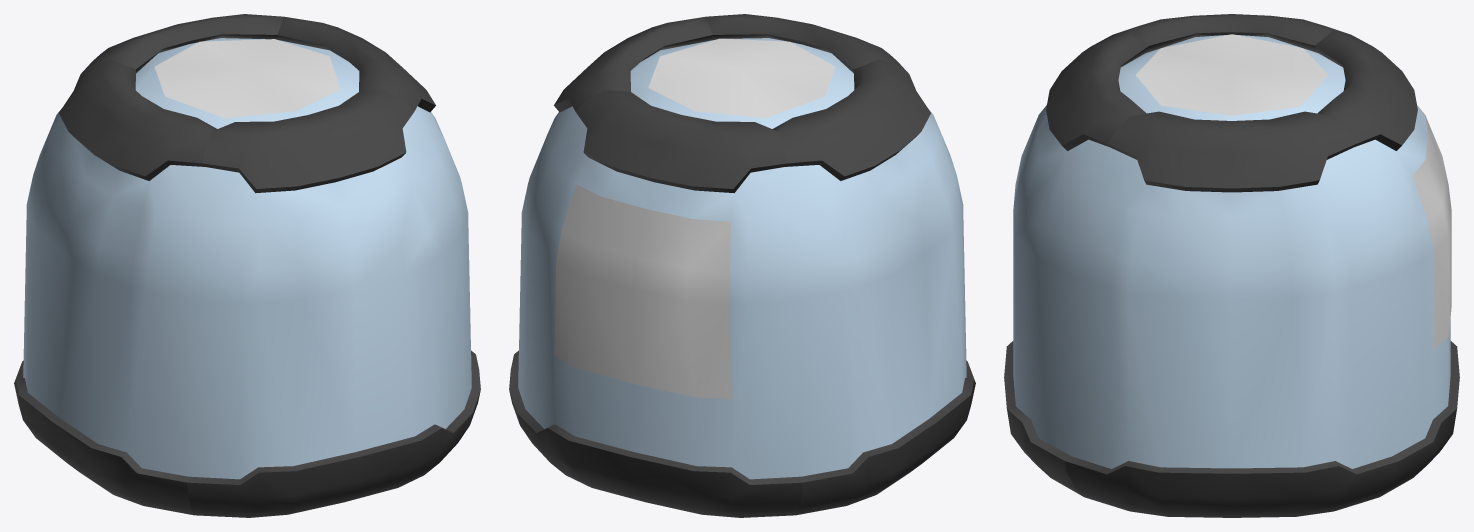
The model's file is obj_characterobject_totebotblue.fbx.
3 renders of one model, left to right at view 1: azimuth 30°, elevation 25°; view 2: azimuth 150°, elevation 25°; view 3: azimuth 270°, elevation 25°, orthographic.
Parts seen in each view (by area): view 1: obj_characterobject_totebotpackage_empty.003; view 2: obj_characterobject_totebotpackage_empty.003; view 3: obj_characterobject_totebotpackage_empty.003.
Boxes of the visible parts, x1,y1,x2,y2 form: obj_characterobject_totebotpackage_empty.003: [14, 14, 480, 517]; obj_characterobject_totebotpackage_empty.003: [509, 14, 975, 517]; obj_characterobject_totebotpackage_empty.003: [1004, 14, 1459, 517].
Bounding box in the file's own units: 9.92 × 8.98 × 9.92.
